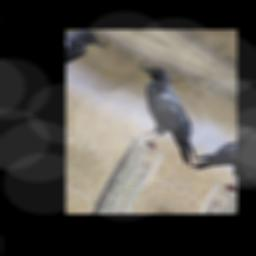Crow: (108, 57, 226, 169)
